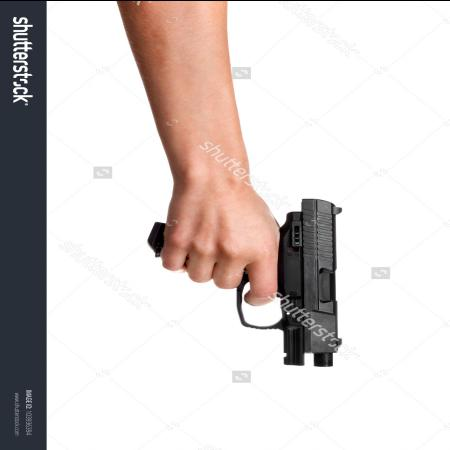Pistol: (149, 196, 344, 366)
